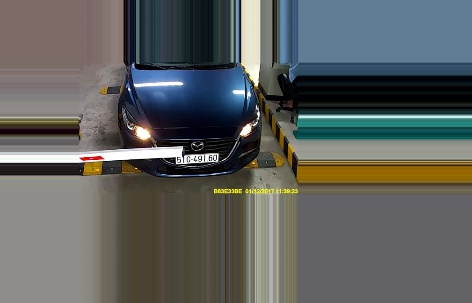plate: (173, 151, 220, 168)
